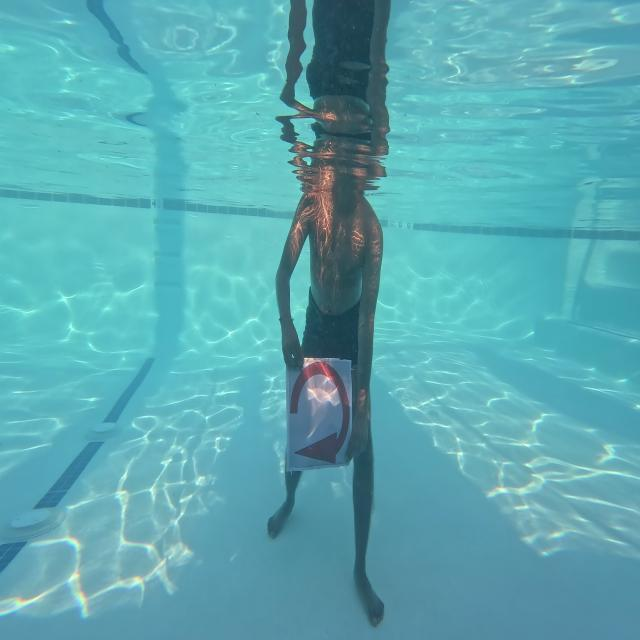red_side: (282, 358, 356, 468)
